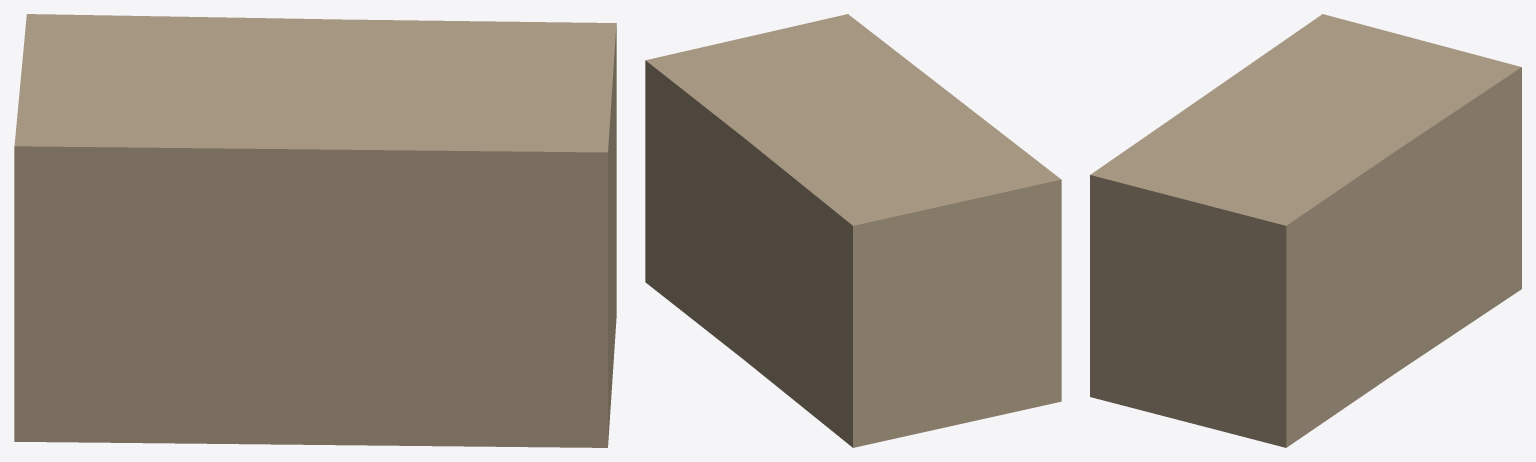
The model's file is bld_99616027.dae.
3 renders of one model, left to right at view 1: azimuth 30°, elevation 25°; view 2: azimuth 150°, elevation 25°; view 3: azimuth 270°, elevation 25°, orthographic. The views are drawn at different scales.
Parts seen in each view (by area): view 1: bld_99616027; view 2: bld_99616027; view 3: bld_99616027.
Part boxes in pixels (x1=…): bld_99616027: x1=14, y1=14, x2=616, y2=447; bld_99616027: x1=645, y1=14, x2=1061, y2=447; bld_99616027: x1=1090, y1=14, x2=1521, y2=447.
Bounding box in the file's own units: 16.37 × 14.09 × 8.
